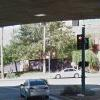Car: (13, 72, 54, 100)
